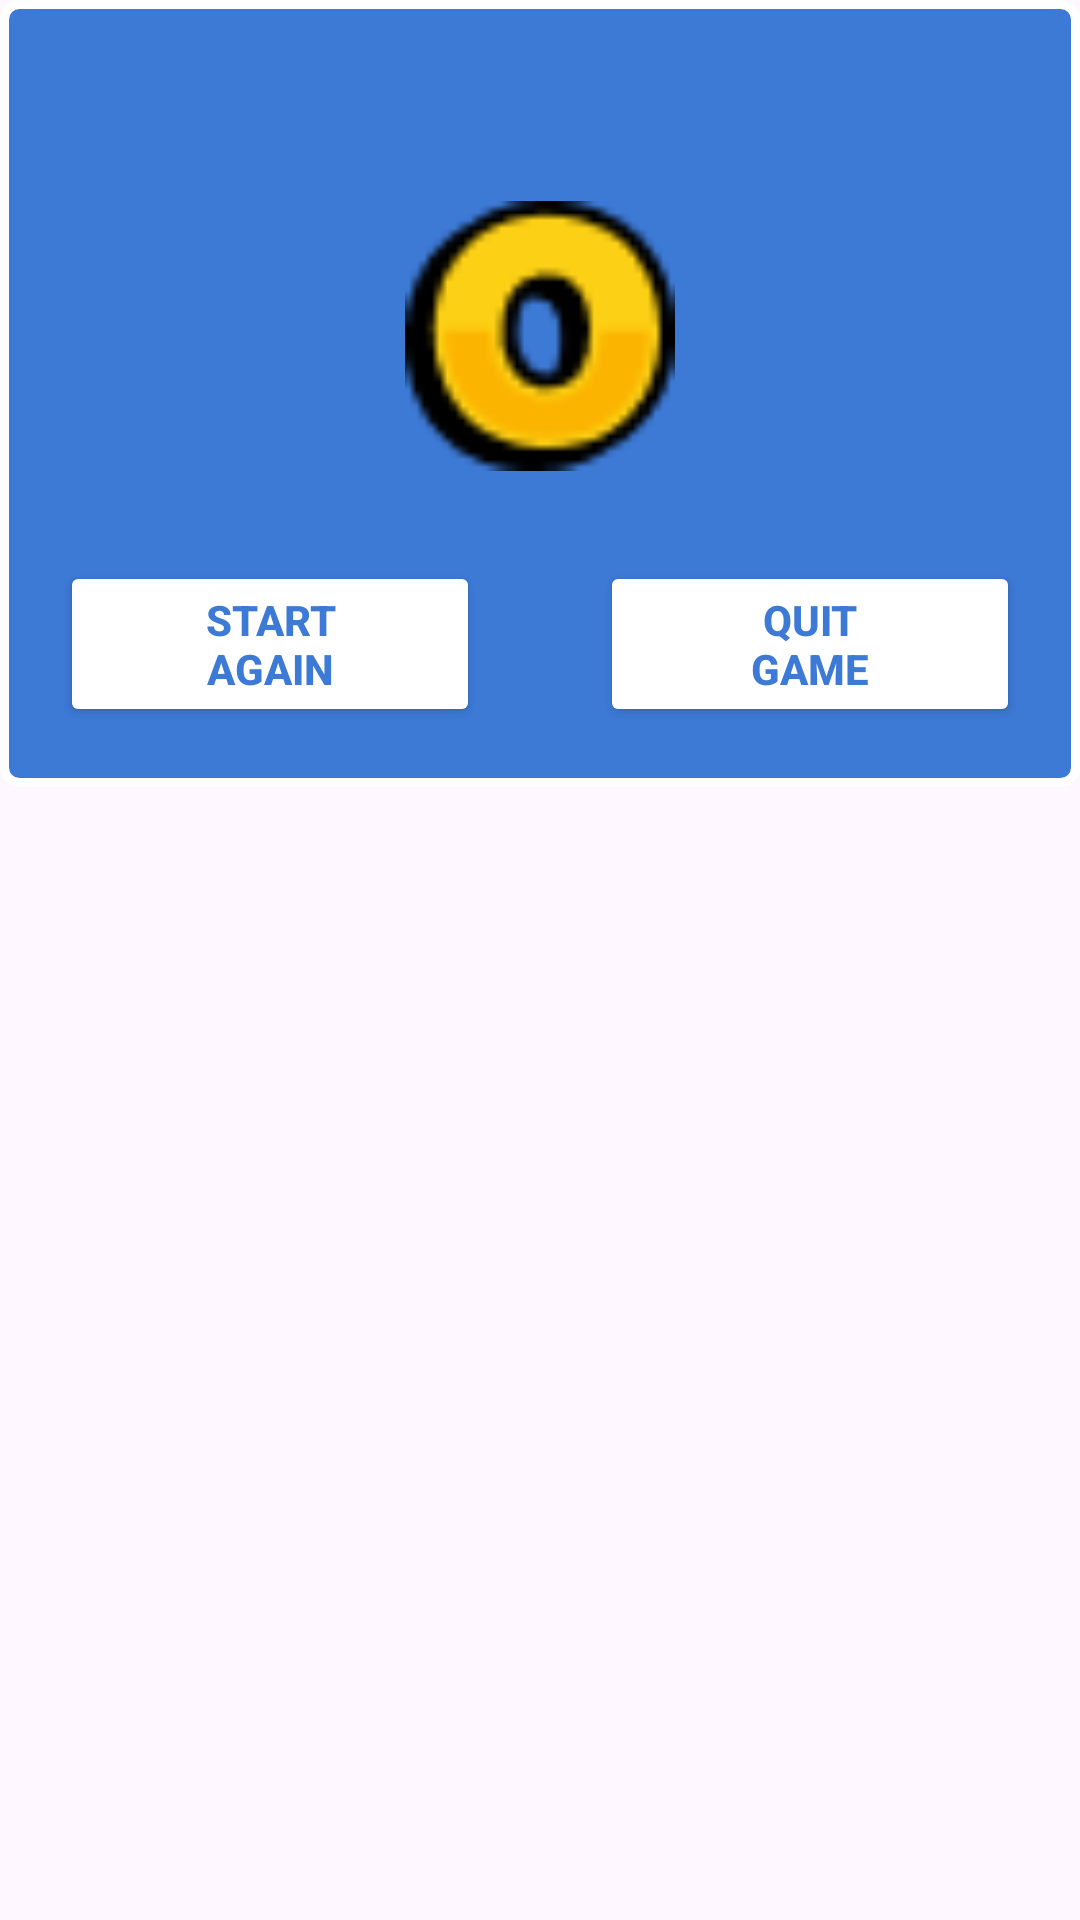

Named icons in this screenshot (1080x1920) and their centers, (x,y):
oimage: (540,336)
